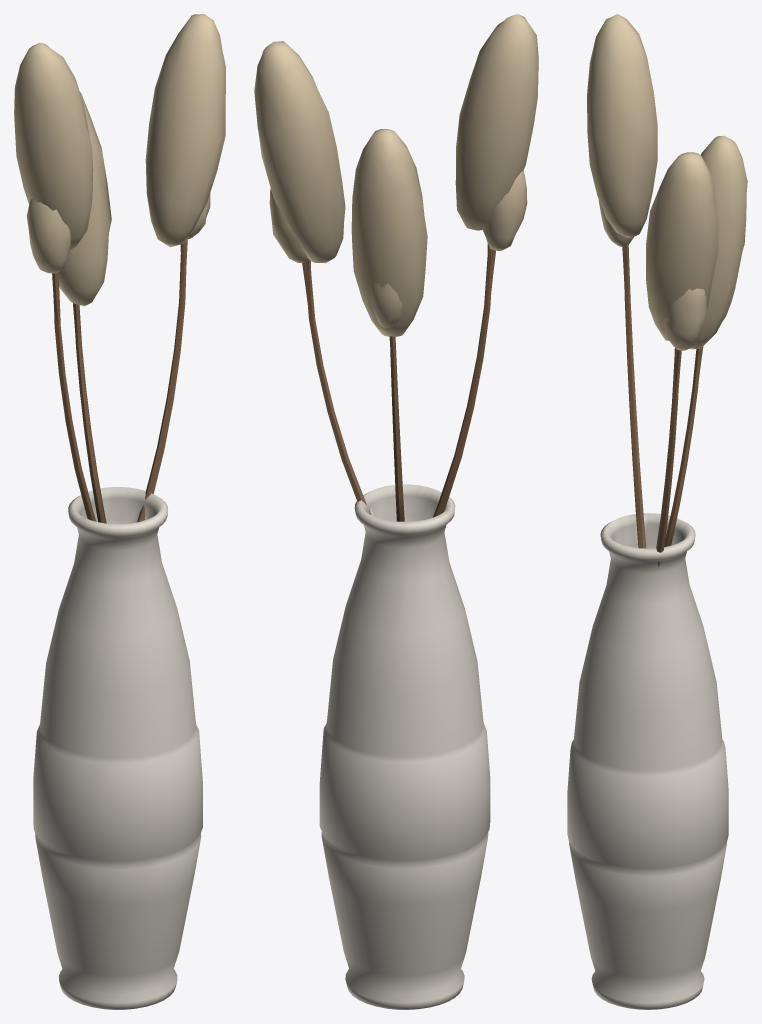
File: vaseTall.glb
3 renders of one model, left to right at view 1: azimuth 30°, elevation 25°; view 2: azimuth 150°, elevation 25°; view 3: azimuth 270°, elevation 25°, orthographic. The views are drawn at different scales.
Visible parts, largest first — view 1: vaseTall; view 2: vaseTall; view 3: vaseTall.
Part boxes in pixels (box(x1,y1,x2,y2)): vaseTall: box(14, 14, 225, 1009); vaseTall: box(254, 14, 538, 1009); vaseTall: box(567, 14, 747, 1009).
Bounding box in the file's own units: 0.3259 × 1.27 × 0.2233.
